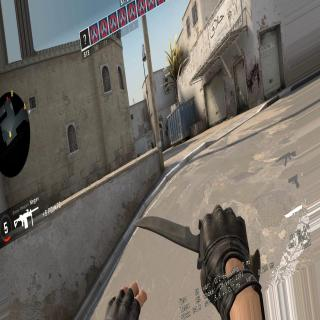CT-Body: (150, 141, 154, 148)
CT-Head: (152, 140, 152, 144)
